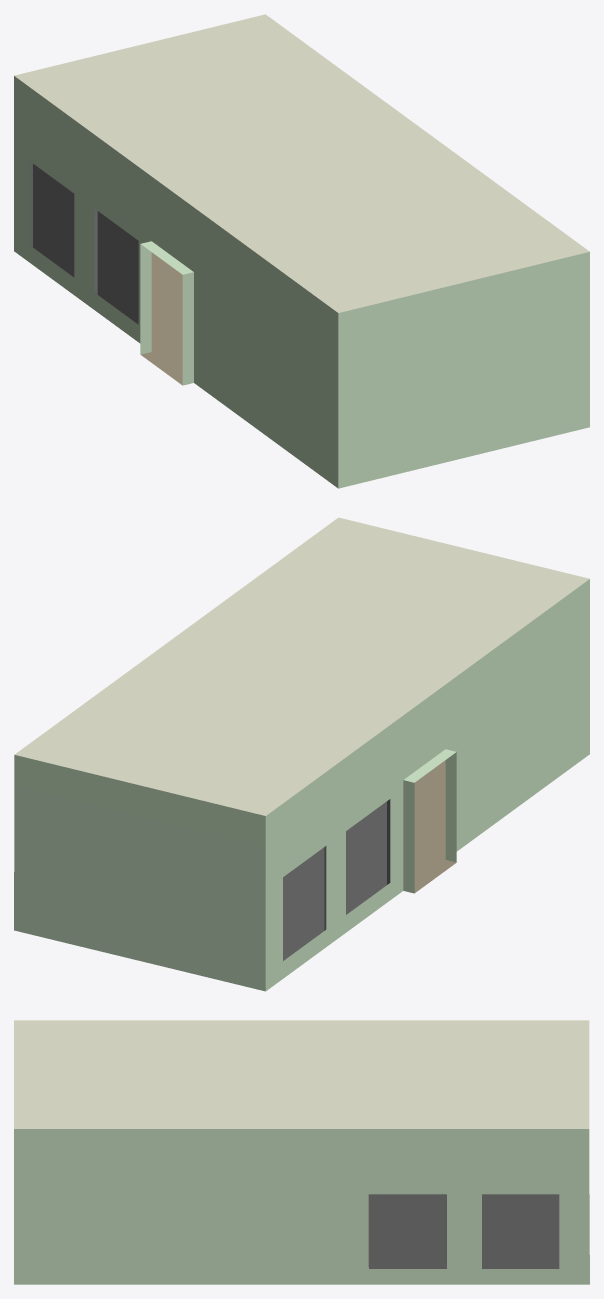
The model's file is studio_room.fbx.
3 views of the same model, one above another, from view 1: azimuth 30°, elevation 25°; view 2: azimuth 150°, elevation 25°; view 3: azimuth 270°, elevation 25° (orthographic). The views are drawn at different scales.
Visible parts, largest first — view 1: room; view 2: room; view 3: room.
Boxes of the visible parts, x1,y1,x2,y2 form: room: [14, 14, 589, 488]; room: [14, 517, 589, 991]; room: [14, 1020, 589, 1284].
Size of the model in its own units: 3.13 by 2 by 6.71.
